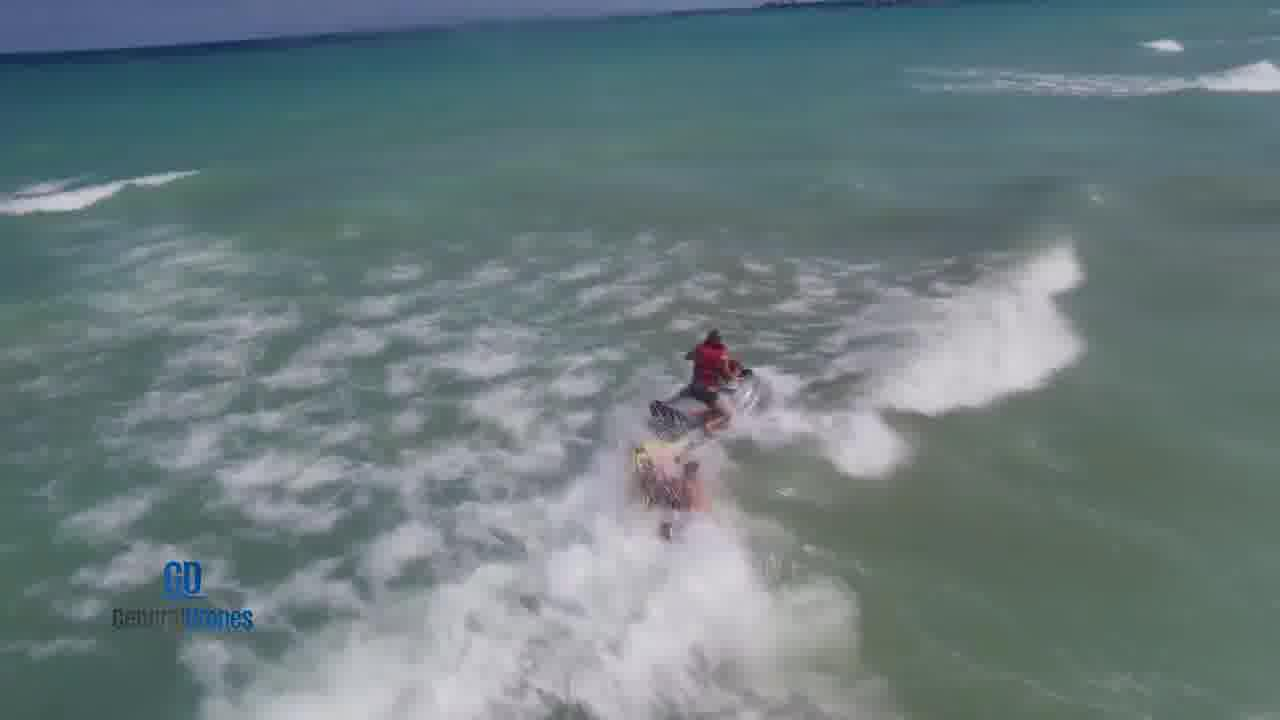human: (656, 458, 703, 516)
